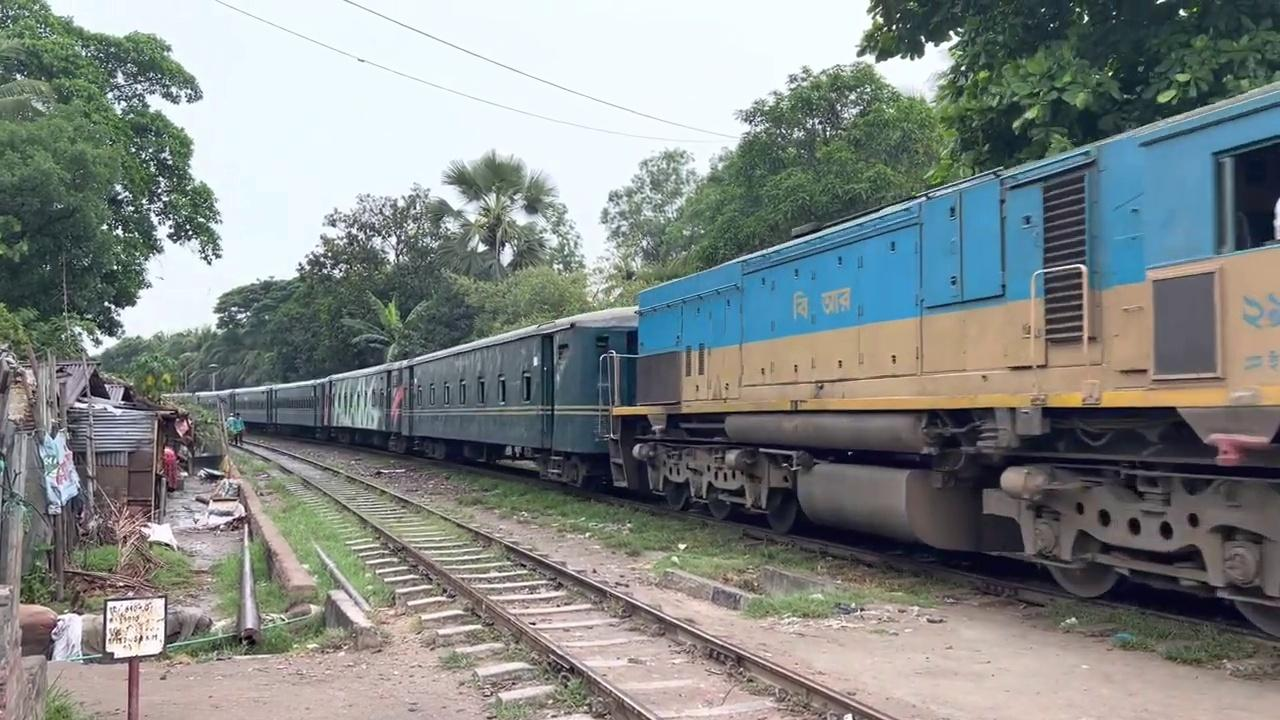Motorcycle: (210, 424, 878, 714)
Pothole: (102, 595, 166, 659)
Potted-plant: (157, 81, 1278, 638)
Railroad-crossing: (425, 147, 562, 282), (597, 145, 702, 300)
